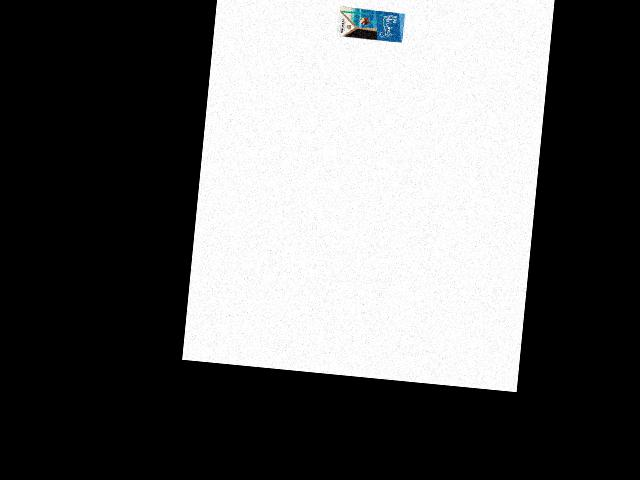chocolate: (334, 5, 406, 44)
